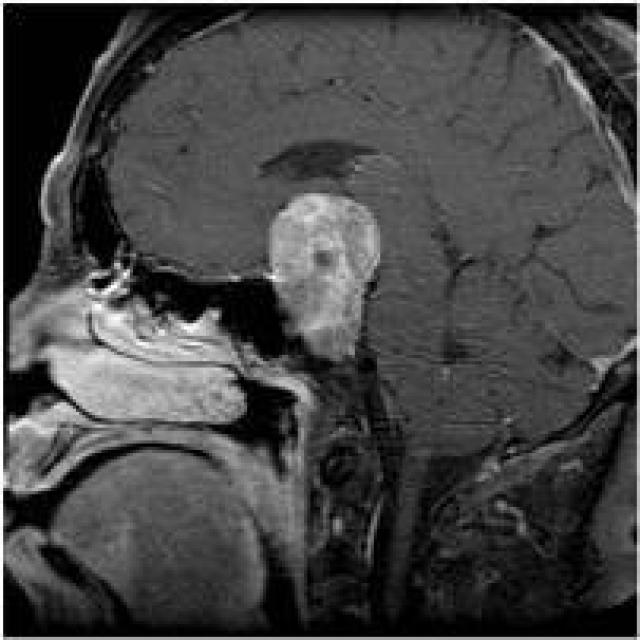brain_tumor: (269, 193, 383, 364)
